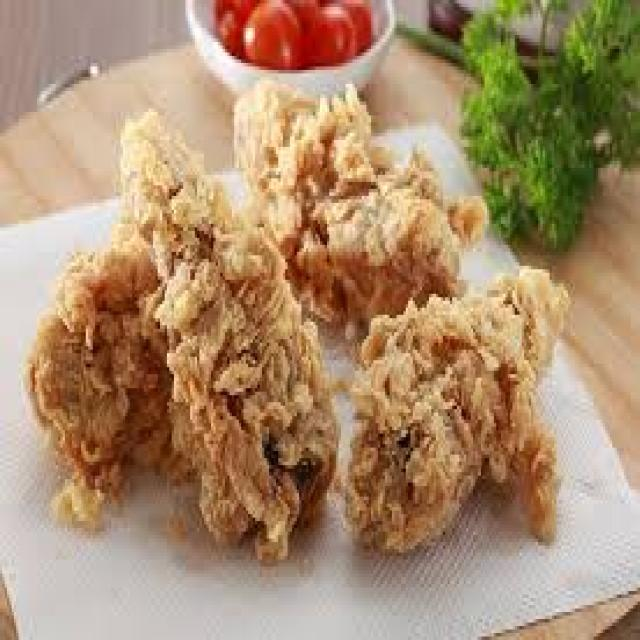Frango: (229, 94, 559, 546), (120, 108, 338, 560), (30, 182, 232, 524), (341, 269, 566, 553)
